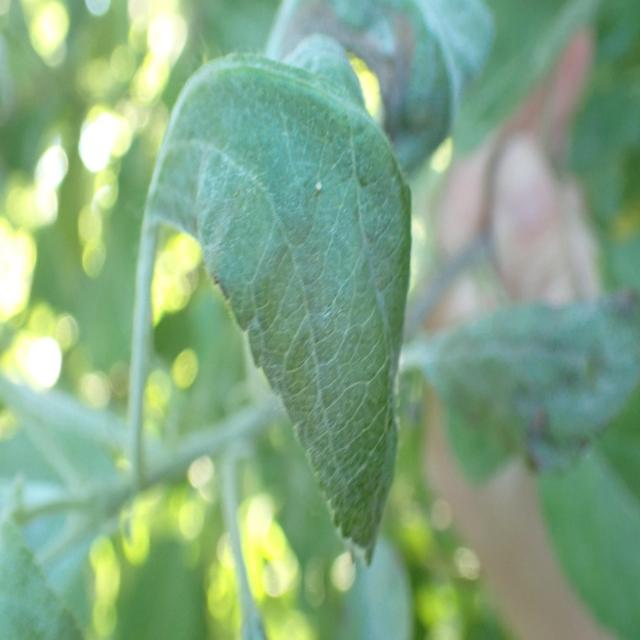Powdery_mildew: (146, 51, 430, 568), (423, 289, 640, 489)
